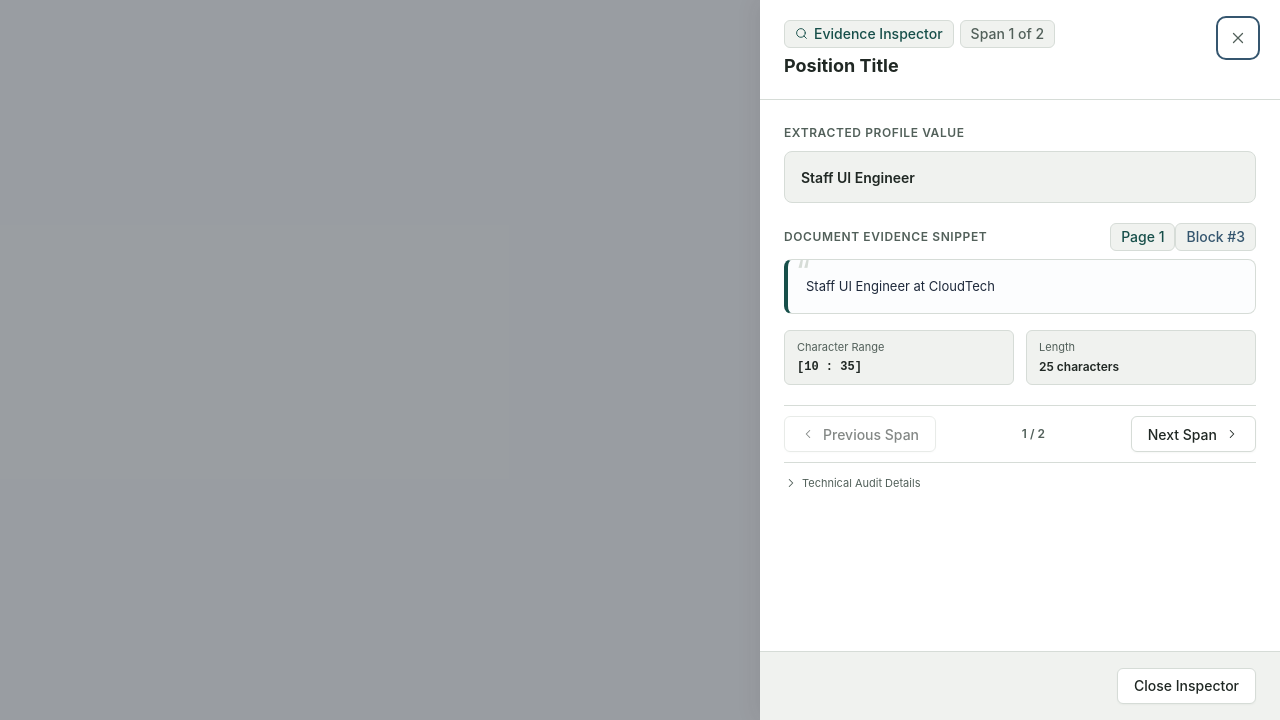
EvidenceDrawer Component › navigates through multiple evidence spans
Expected: the text "Span 1 of 2" is shown, [960,20,1055,48]
Click the button "Next Span". click: (1193,434)
box: [1131,416,1256,452]
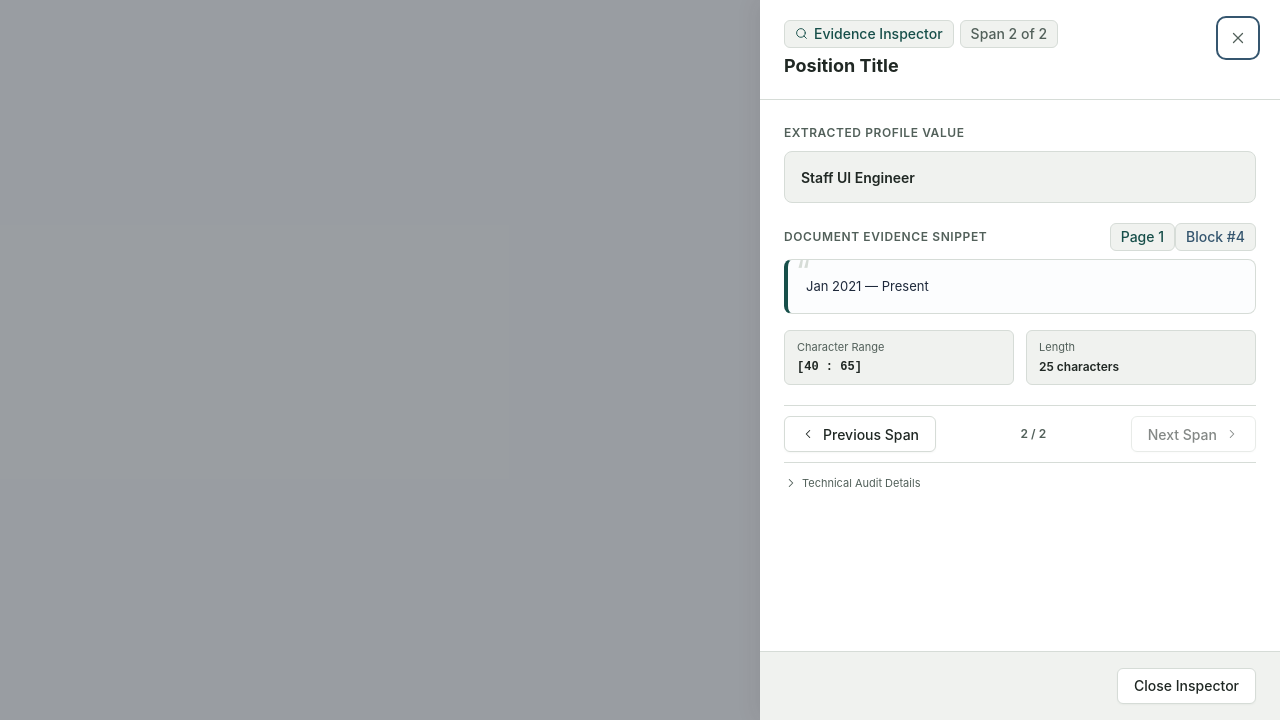
Expected: the text "Span 2 of 2" is shown, [960,20,1058,48]
Expected: the text "Jan 2021 — Present" is shown, [806,278,929,294]
